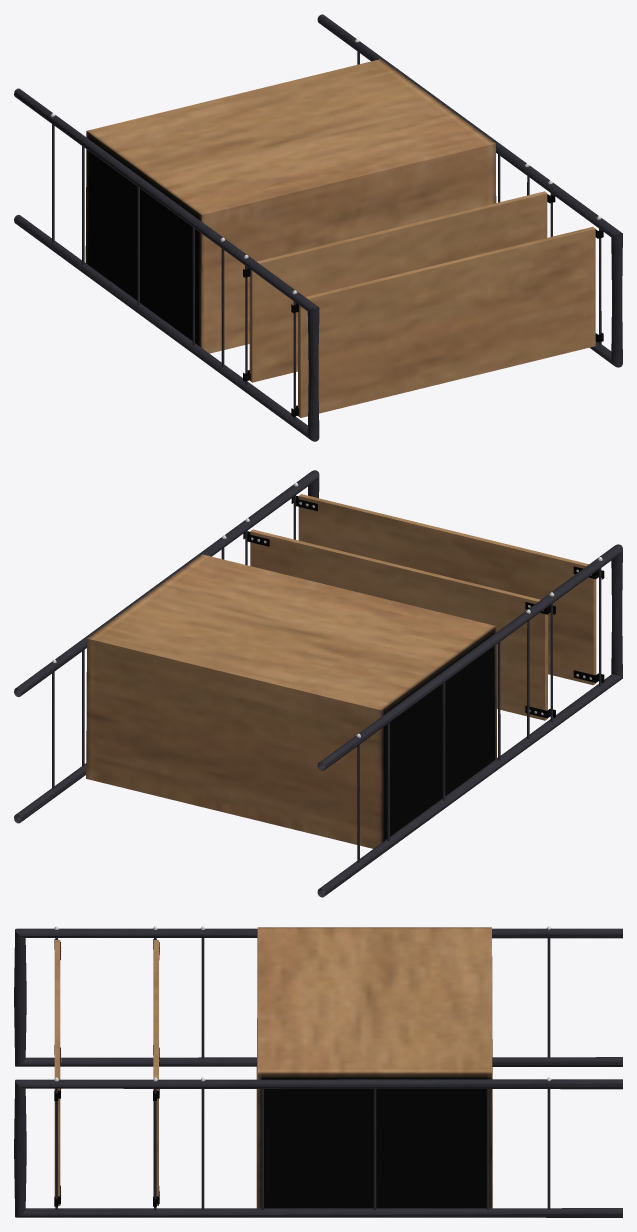
3 views of the same model, one above another, from view 1: azimuth 30°, elevation 25°; view 2: azimuth 150°, elevation 25°; view 3: azimuth 270°, elevation 25° (orthographic).
Parts seen in each view (by area): view 1: part_4; view 2: part_4; view 3: part_4.
Boxes of the visible parts, x1,y1,x2,y2 form: part_4: [14, 14, 622, 441]; part_4: [14, 470, 622, 897]; part_4: [14, 926, 622, 1217].
Bounding box in the file's own units: 1.14 × 0.4901 × 1.88.
1 material, 1 textured.
